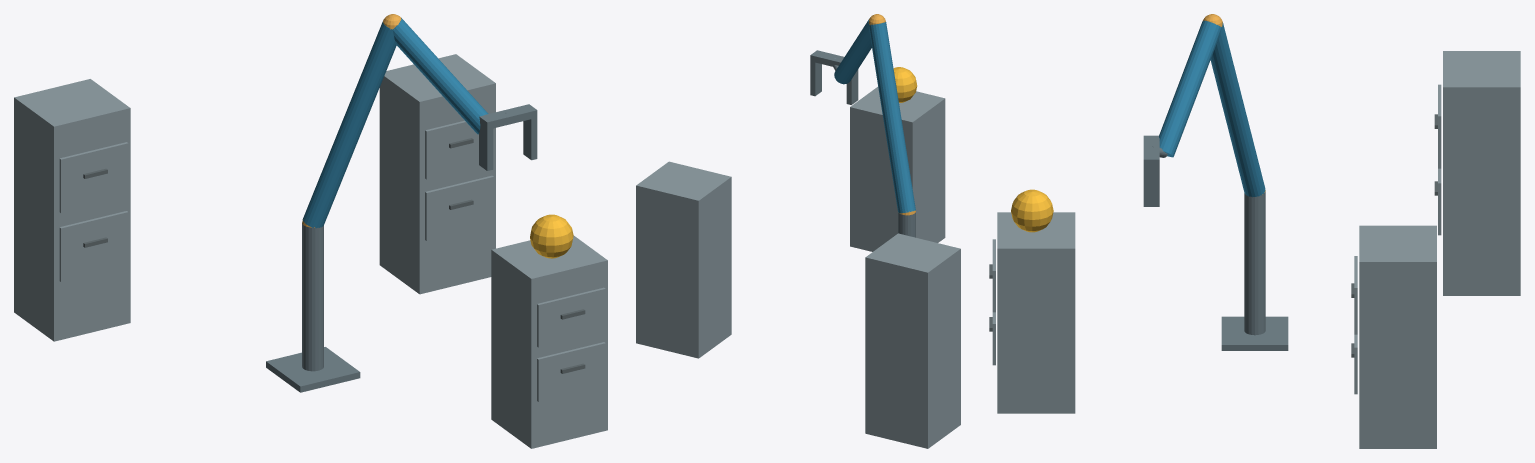
3 renders of one model, left to right at view 1: azimuth 30°, elevation 25°; view 2: azimuth 150°, elevation 25°; view 3: azimuth 270°, elevation 25°, orthographic. The views are drawn at different scales.
Parts seen in each view (by area): view 1: cabinet_3 body, cabinet_2 body, cabinet_1 body, moving link 1, cabinet_3 drawer front, cabinet_3 drawer front.001, cabinet_2 drawer front, fixed post, cabinet_1 drawer front, cabinet_1 drawer front.001, moving link 2, cabinet_2 drawer front.001 (+5 smaller); view 2: cabinet_3 body, cabinet_2 body, cabinet_1 body, moving link 1, moving link 2, ball ball_1, gripper finger 1, fixed post, gripper bridge, gripper finger -1; view 3: cabinet_3 body, cabinet_2 body, cabinet_1 body, moving link 1, fixed post, moving link 2, pedestal, ball ball_1, gripper finger 1, gripper bridge.
Boxes of the visible parts, left/top/right/bottom form: cabinet_3 body: left=14, top=79, right=130, bottom=341; cabinet_2 body: left=379, top=54, right=495, bottom=294; cabinet_1 body: left=491, top=235, right=607, bottom=448; moving link 1: left=302, top=21, right=396, bottom=228; cabinet_3 drawer front: left=59, top=211, right=128, bottom=281; cabinet_3 drawer front.001: left=59, top=142, right=128, bottom=213; cabinet_2 drawer front: left=425, top=175, right=493, bottom=240; fixed post: left=302, top=222, right=323, bottom=371; cabinet_1 drawer front: left=537, top=342, right=605, bottom=401; cabinet_1 drawer front.001: left=537, top=287, right=605, bottom=347; moving link 2: left=392, top=17, right=488, bottom=134; cabinet_2 drawer front.001: left=425, top=120, right=493, bottom=179; cabinet_3 body: left=865, top=233, right=960, bottom=448; cabinet_2 body: left=636, top=161, right=731, bottom=358; cabinet_1 body: left=850, top=86, right=945, bottom=251; moving link 1: left=869, top=22, right=915, bottom=213; moving link 2: left=834, top=18, right=871, bottom=84; ball ball_1: left=893, top=67, right=917, bottom=102; gripper finger 1: left=810, top=61, right=821, bottom=96; fixed post: left=898, top=212, right=915, bottom=237; gripper bridge: left=810, top=50, right=844, bottom=66; gripper finger -1: left=846, top=69, right=858, bottom=104; cabinet_3 body: left=1443, top=51, right=1520, bottom=295; cabinet_2 body: left=1359, top=225, right=1436, bottom=448; cabinet_1 body: left=997, top=212, right=1075, bottom=413; moving link 1: left=1210, top=22, right=1265, bottom=197; fixed post: left=1244, top=192, right=1265, bottom=335; moving link 2: left=1159, top=20, right=1221, bottom=157; pedestal: left=1221, top=316, right=1288, bottom=350; ball ball_1: left=1011, top=189, right=1053, bottom=232; gripper finger 1: left=1143, top=167, right=1159, bottom=206; gripper bridge: left=1143, top=135, right=1159, bottom=166.
Size of the model in its own units: 1.67 by 1.44 by 1.98.
